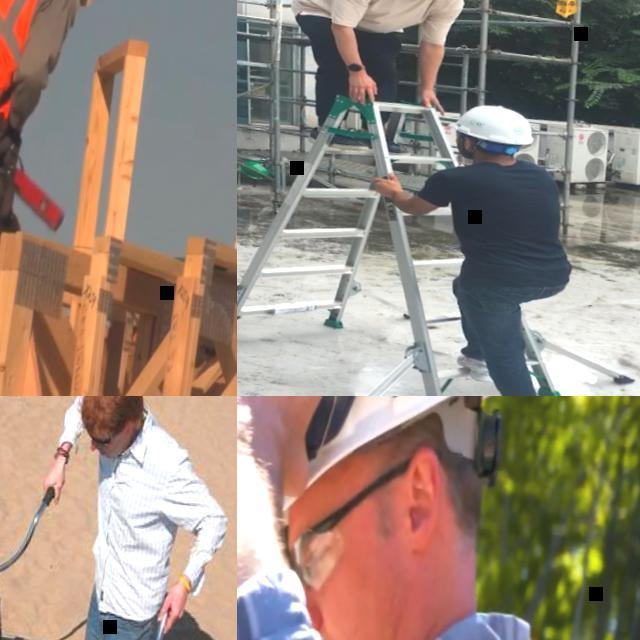helmet: (275, 396, 530, 550), (446, 101, 538, 145)
no_helmet: (79, 396, 152, 439)
no_mask: (304, 572, 403, 640), (100, 412, 143, 464), (454, 142, 470, 158)
no_vest: (443, 158, 583, 293), (336, 0, 449, 40)
person: (237, 396, 623, 640), (340, 91, 605, 396), (3, 396, 237, 640), (0, 0, 111, 396), (273, 0, 487, 165)
vest: (82, 425, 185, 624), (0, 0, 70, 121)
